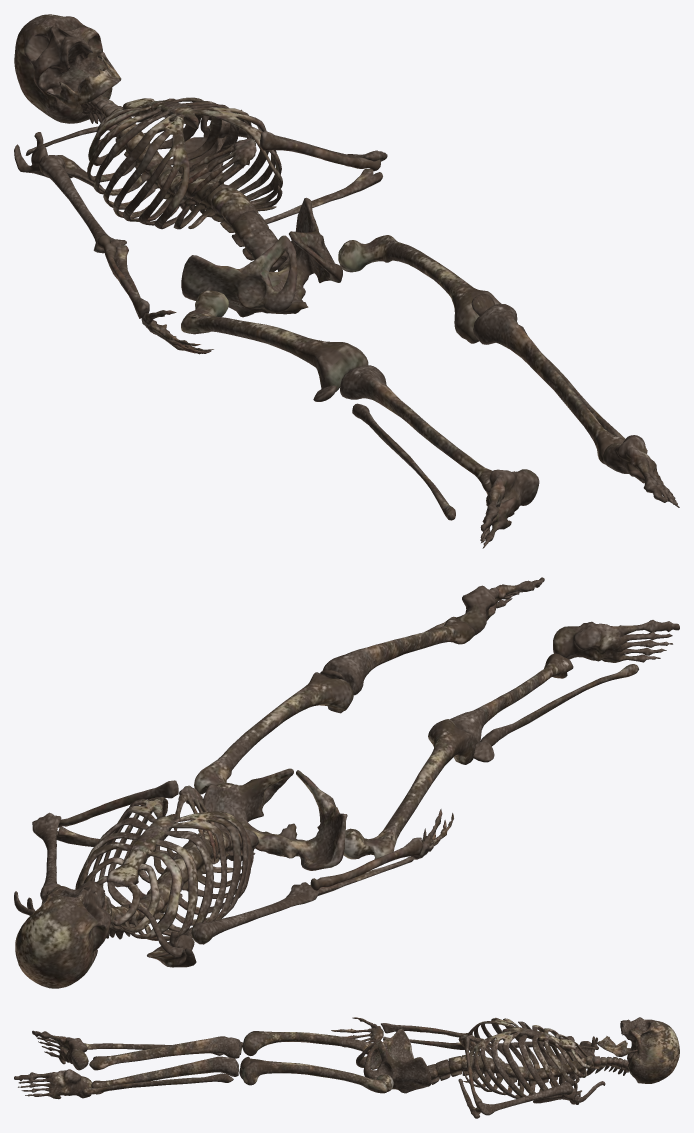
The model's file is SM_Skeleton_01.glb.
The picture shows the model from 3 angles, top to bottom: view 1: azimuth 30°, elevation 25°; view 2: azimuth 150°, elevation 25°; view 3: azimuth 270°, elevation 25°; orthographic projection. The views are drawn at different scales.
Parts seen in each view (by area): view 1: SM_Skeleton_01; view 2: SM_Skeleton_01; view 3: SM_Skeleton_01.
Boxes of the visible parts, x1,y1,x2,y2 form: SM_Skeleton_01: (14, 14, 679, 548); SM_Skeleton_01: (14, 577, 679, 988); SM_Skeleton_01: (14, 1017, 679, 1118).
Bounding box in the file's own units: 0.7708 × 0.2754 × 2.33.
1 material, 1 textured.
